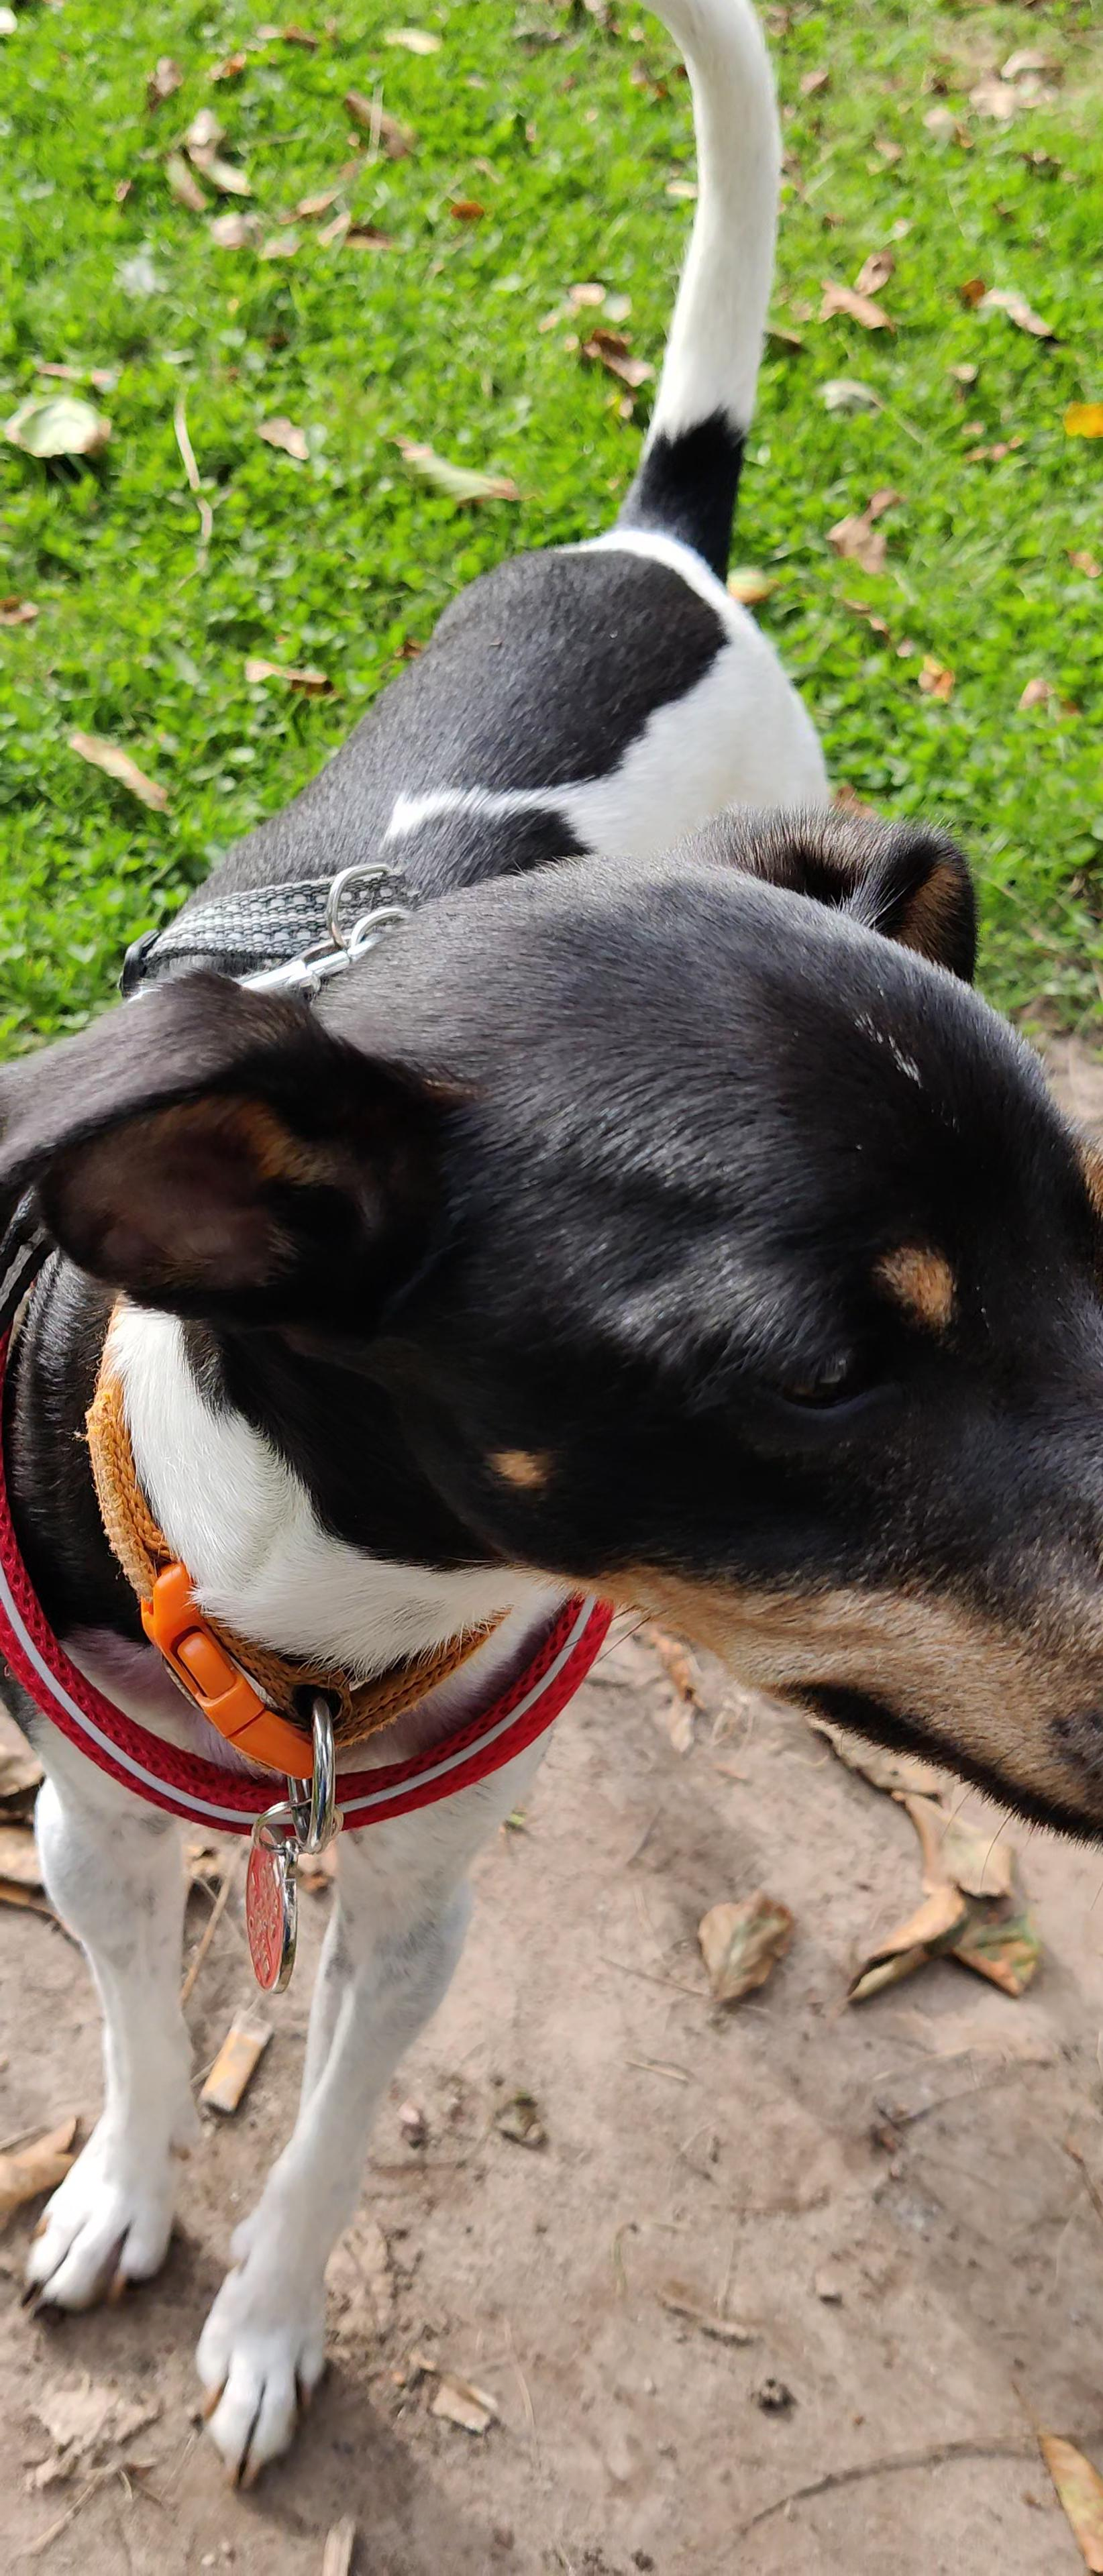Dog: (0, 0, 1103, 2492)
